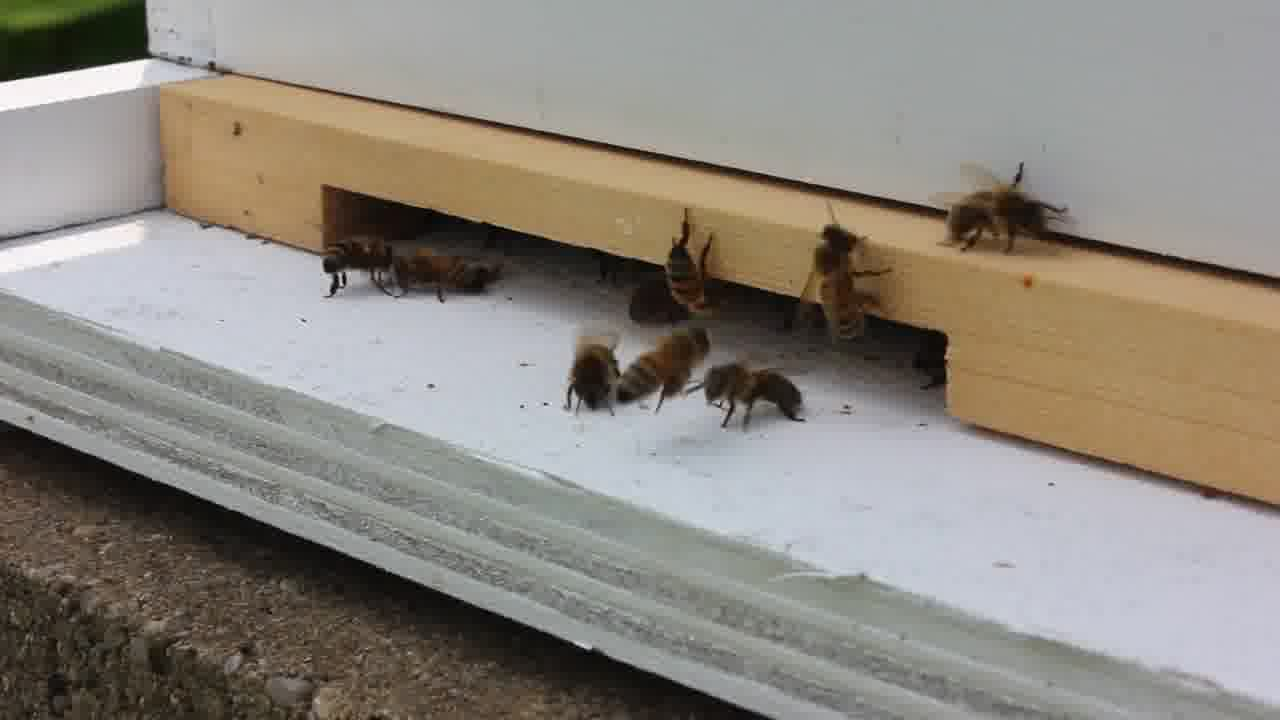pollen: (613, 320, 714, 419)
